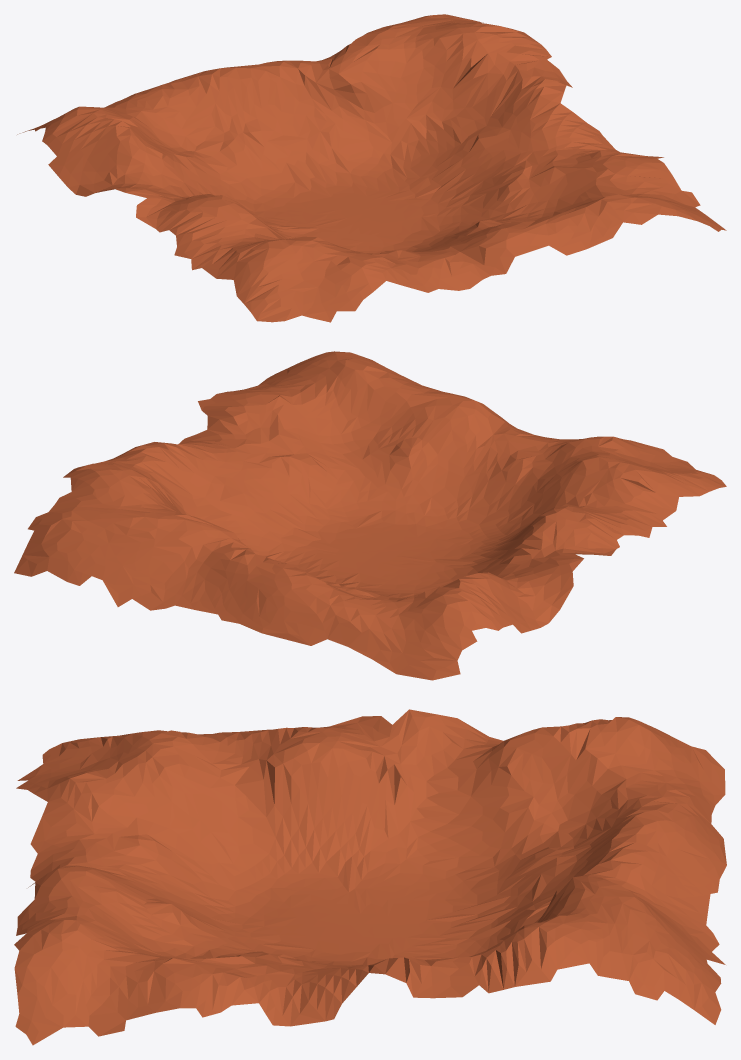
File: Mars_Surface.fbx
The picture shows the model from 3 angles, top to bottom: view 1: azimuth 30°, elevation 25°; view 2: azimuth 150°, elevation 25°; view 3: azimuth 270°, elevation 25°; orthographic projection. The views are drawn at different scales.
Visible parts, largest first — view 1: Mars_Surface; view 2: Mars_Surface; view 3: Mars_Surface.
Part boxes in pixels (x1,y1,x2,y2): Mars_Surface: [17, 14, 726, 322]; Mars_Surface: [14, 351, 726, 680]; Mars_Surface: [14, 709, 726, 1045].
Size of the model in its own units: 270 by 48.88 by 279.
